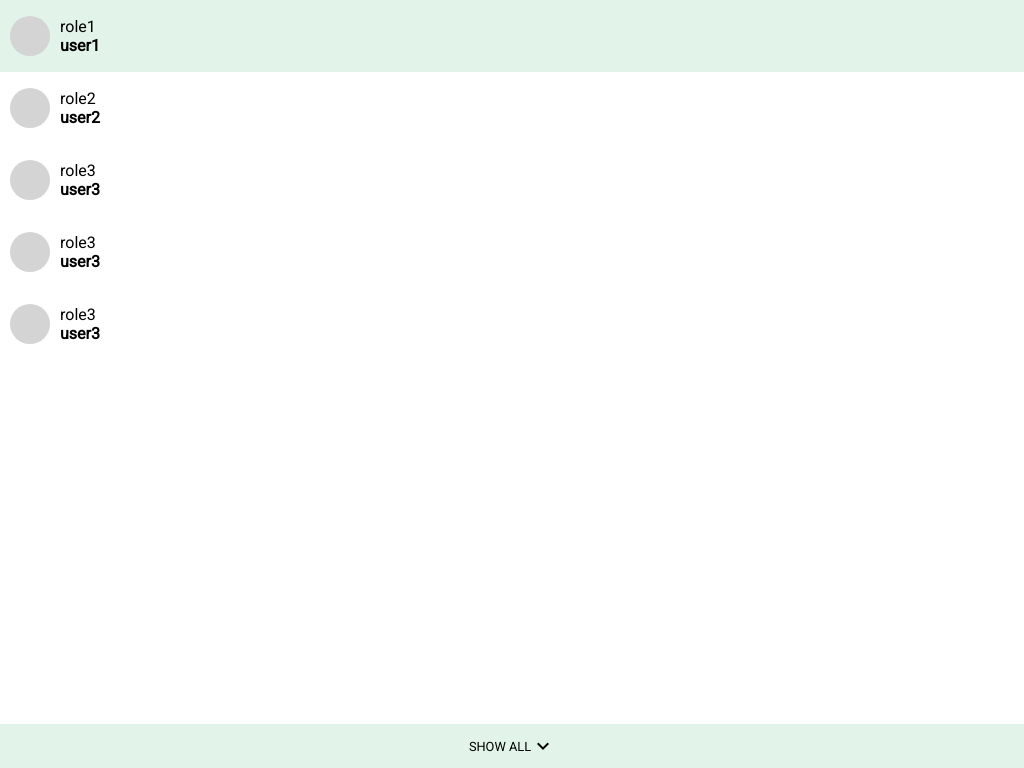
Test case: AddMember tests › Should display all of the members after clicking on the 'show all' button
Click the text "SHOW ALL".
click(500, 746)  # box [469,738,531,754]
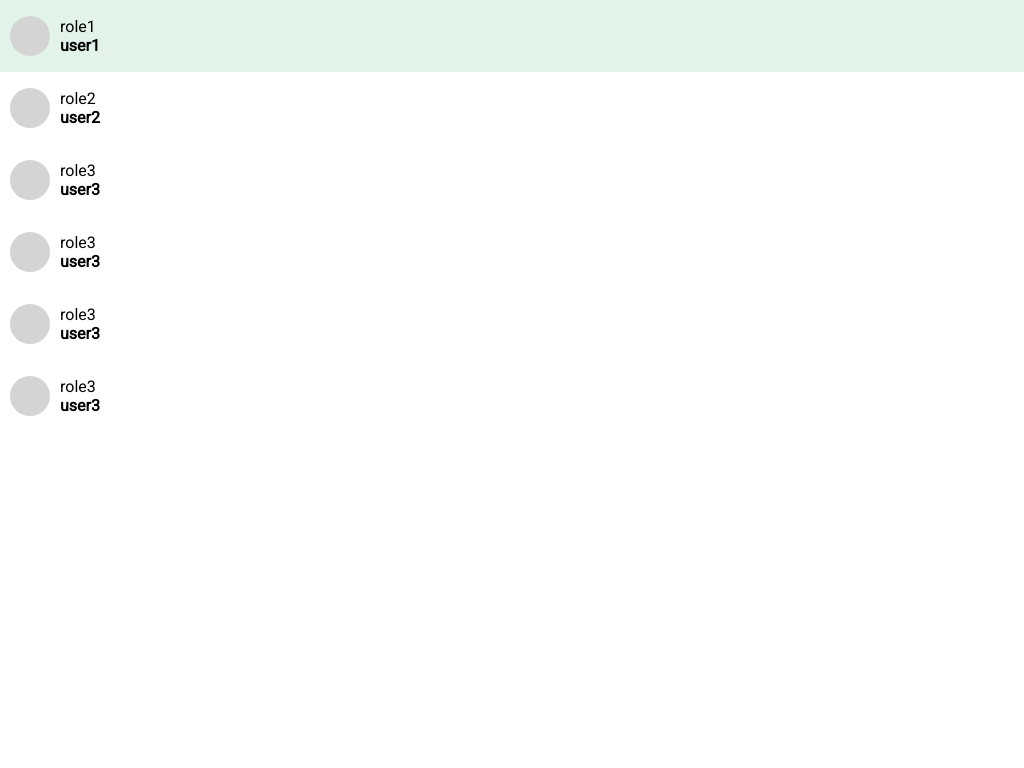
Result: the number of elements with test id "member-role" is 6 at [60,17,100,36]; [60,89,100,108]; [60,161,100,180]; [60,233,100,252]; [60,305,100,324]; [60,377,100,396]
Result: the number of elements with test id "member-description" is 6 at [60,36,100,55]; [60,108,100,127]; [60,180,100,199]; [60,252,100,271]; [60,324,100,343]; [60,396,100,415]
